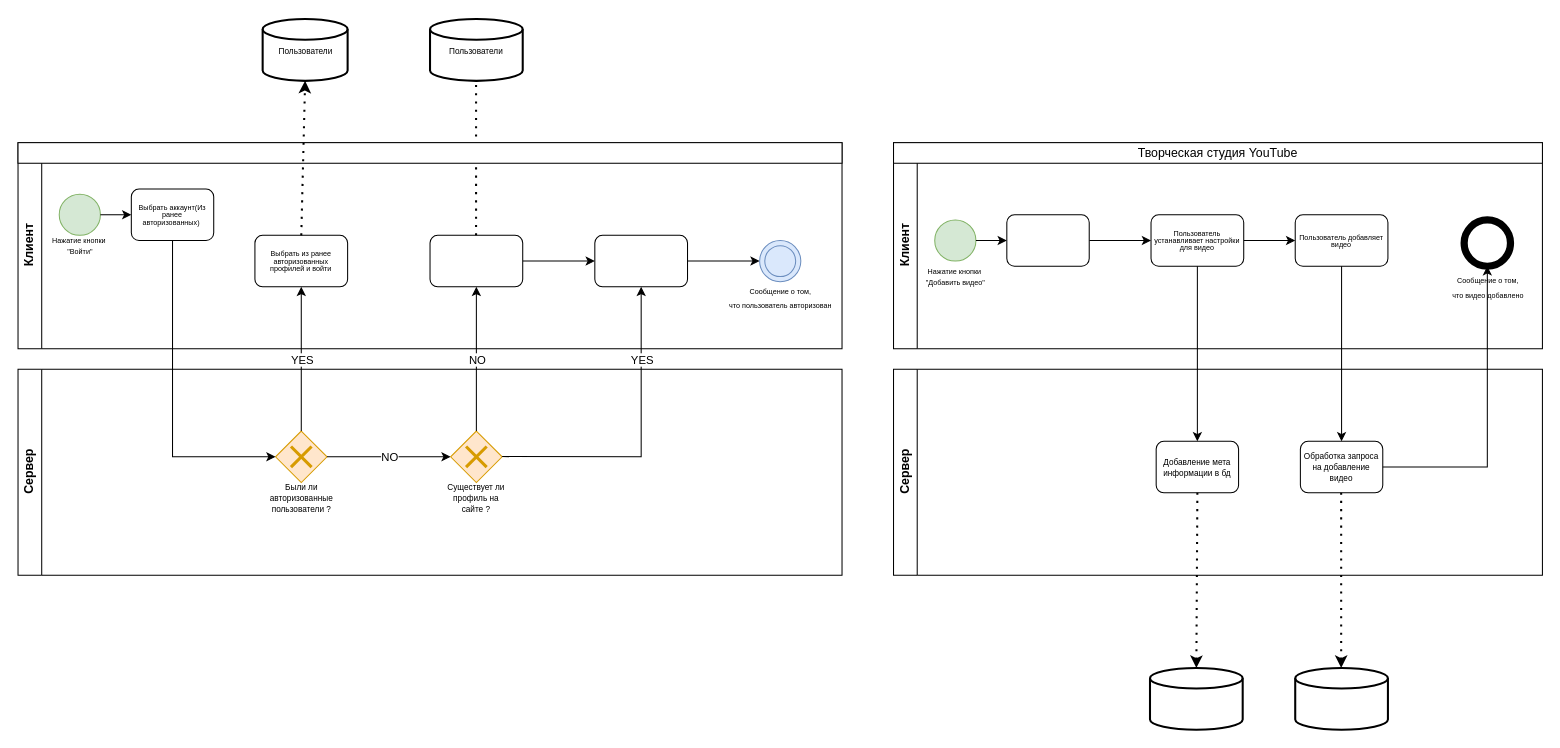
The diagram is 1560 pixels wide and 748 high, and some of its shapes have lost their labels. The shapes that lost their labels are listed below. From the top down, each one's centre as x and y in pixels, then its label:
(429,152): YouTube
(476,260): Заполнить форму регистрации и отправить её
(641,260): Авторизоваться в системе
(1047,240): "Загрузка файла": Пользователь выбирает файл для загрузки.
(1195,698): META-INFO
(1341,698): ВИДЕО
